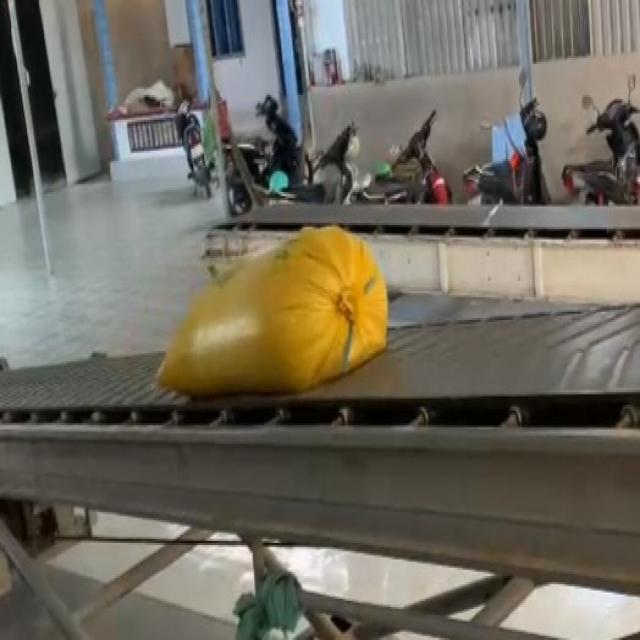gunny_bag: (159, 227, 387, 395)
